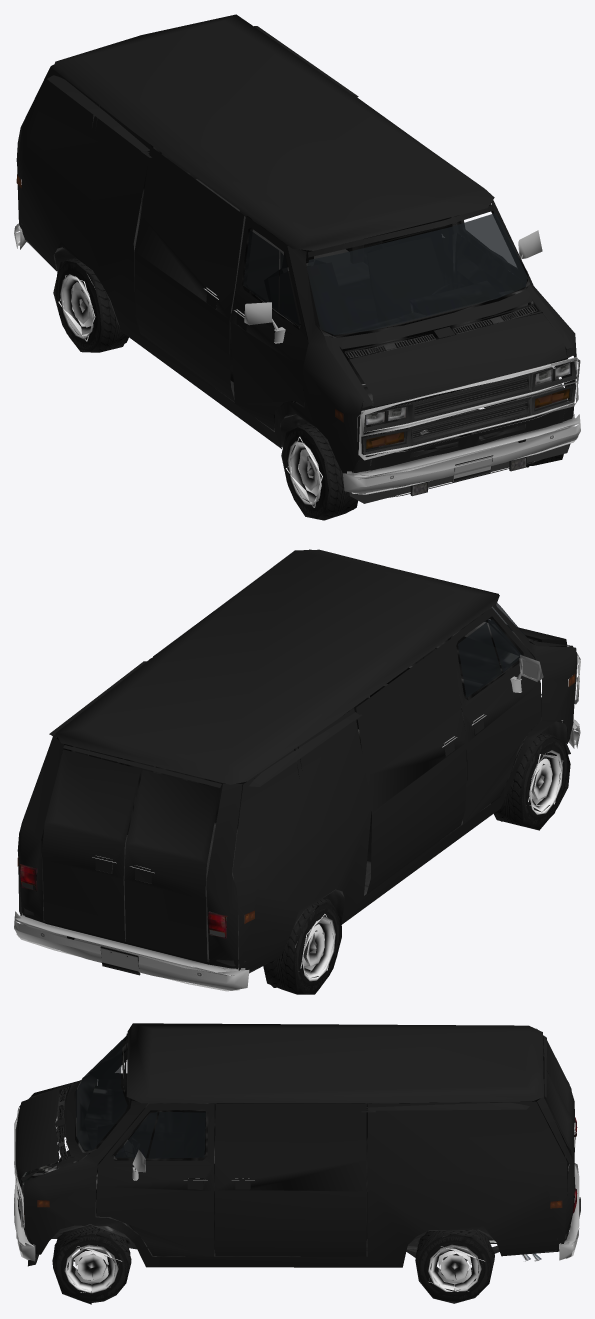
The model's file is shvan-92-lite.glb.
The picture shows the model from 3 angles, top to bottom: view 1: azimuth 30°, elevation 25°; view 2: azimuth 150°, elevation 25°; view 3: azimuth 270°, elevation 25°; orthographic projection. The views are drawn at different scales.
Visible parts, largest first — view 1: Shvan92_Blinkers_UCB_Lights_and_Glass_0; view 2: Shvan92_Blinkers_UCB_Lights_and_Glass_0; view 3: Shvan92_Blinkers_UCB_Lights_and_Glass_0.
Part boxes in pixels (x1,y1,x2,y2): Shvan92_Blinkers_UCB_Lights_and_Glass_0: (14,14,580,520); Shvan92_Blinkers_UCB_Lights_and_Glass_0: (14,549,580,994); Shvan92_Blinkers_UCB_Lights_and_Glass_0: (14,1023,580,1304).
Bounding box in the file's own units: 2.15 × 1.77 × 4.5.
Materials: 8 (7 with a texture image).
